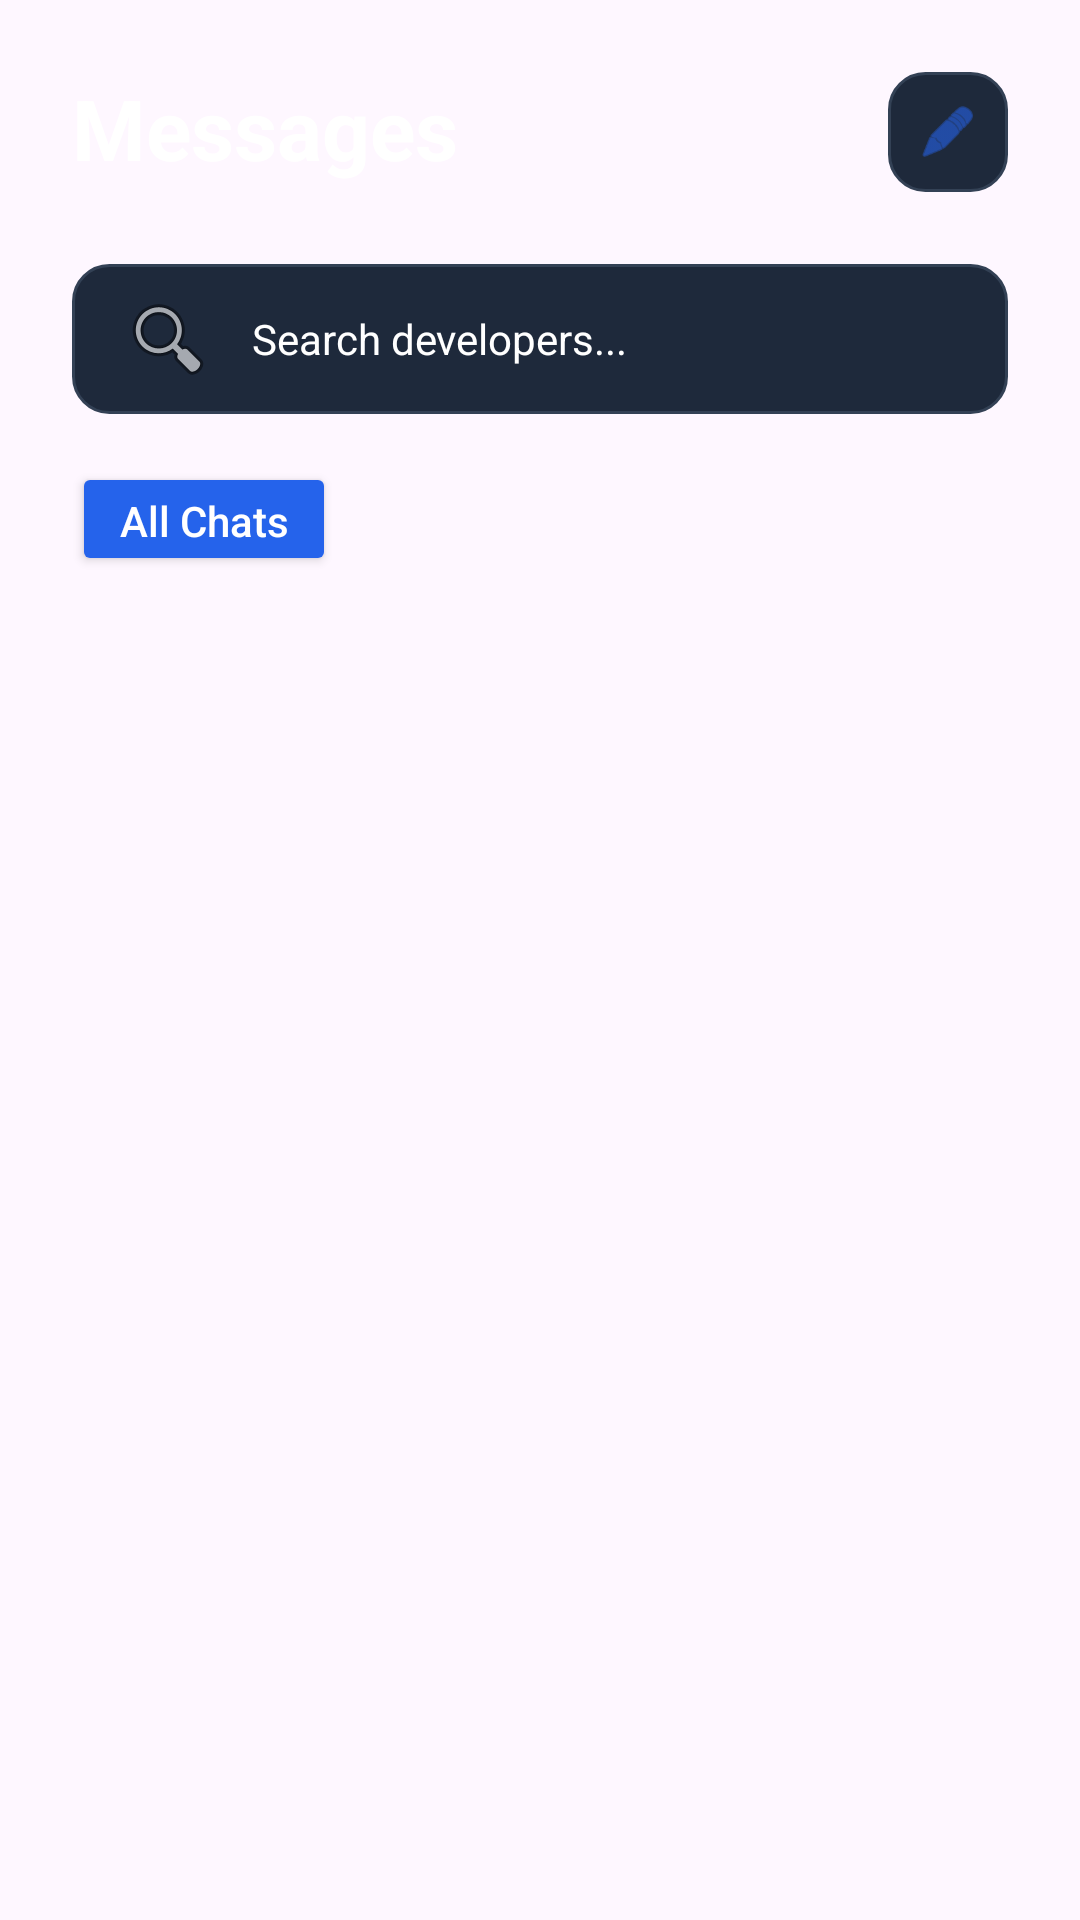

Named icons in this screenshot (1080*1920) and their centers, [x,y]:
edit: [948,132]
